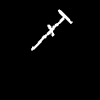double_crochet: (31, 10, 71, 49)
